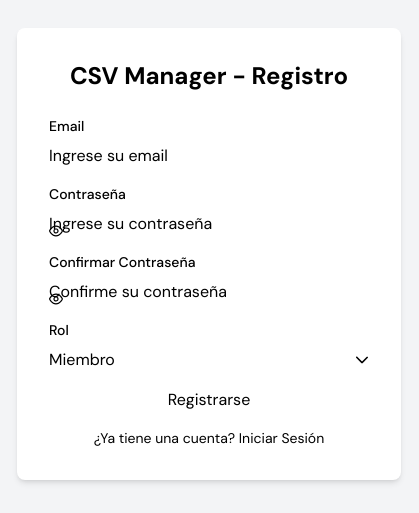
Scenario: SignUpView › shows validation error for password mismatch
Type "test@example.com" into the field labelled "Email" at (209, 156), box [49,144,369,168]
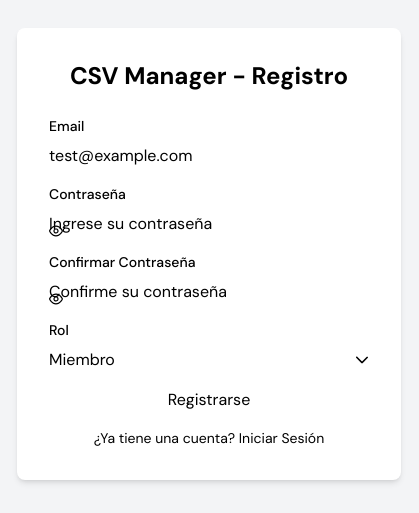
Type "password123" into the password field with placeholder "Ingrese su contraseña" at (209, 224), box [49,212,369,236]
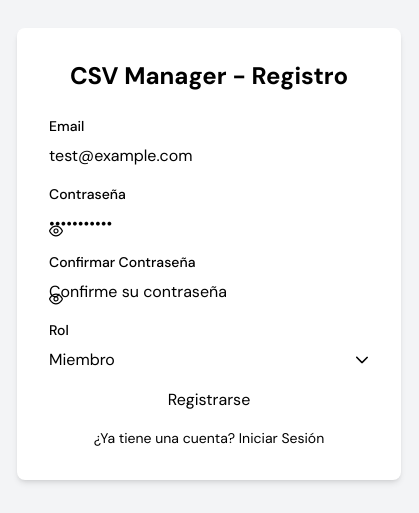
Type "differentpassword" into the password field with placeholder "Confirme su contraseña" at (209, 292), box [49,280,369,304]
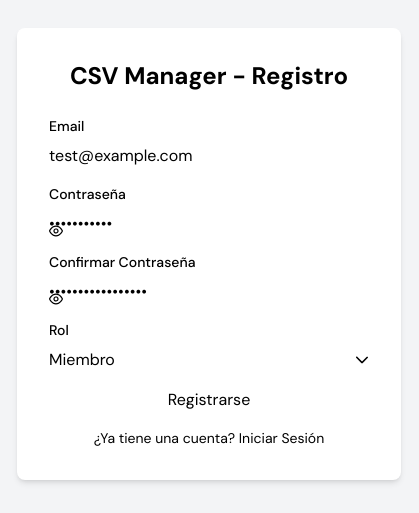
Submit the form, box [49,116,369,412]
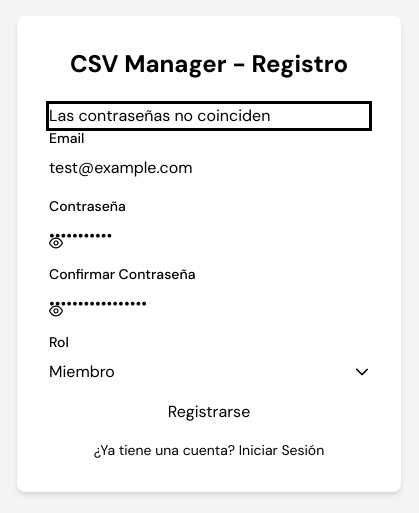
Now the text "Las contraseñas no coinciden" is shown, box [49,104,270,128]
